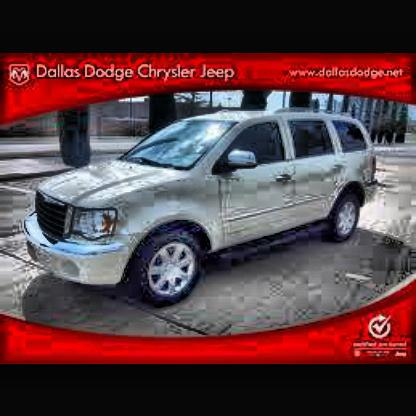Chrysler Aspen SUV 2009: (27, 99, 388, 301)
